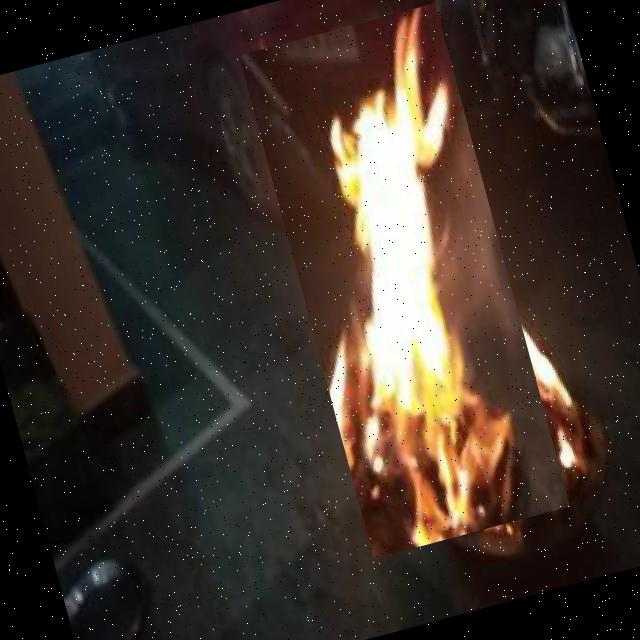fire: (238, 2, 570, 558)
